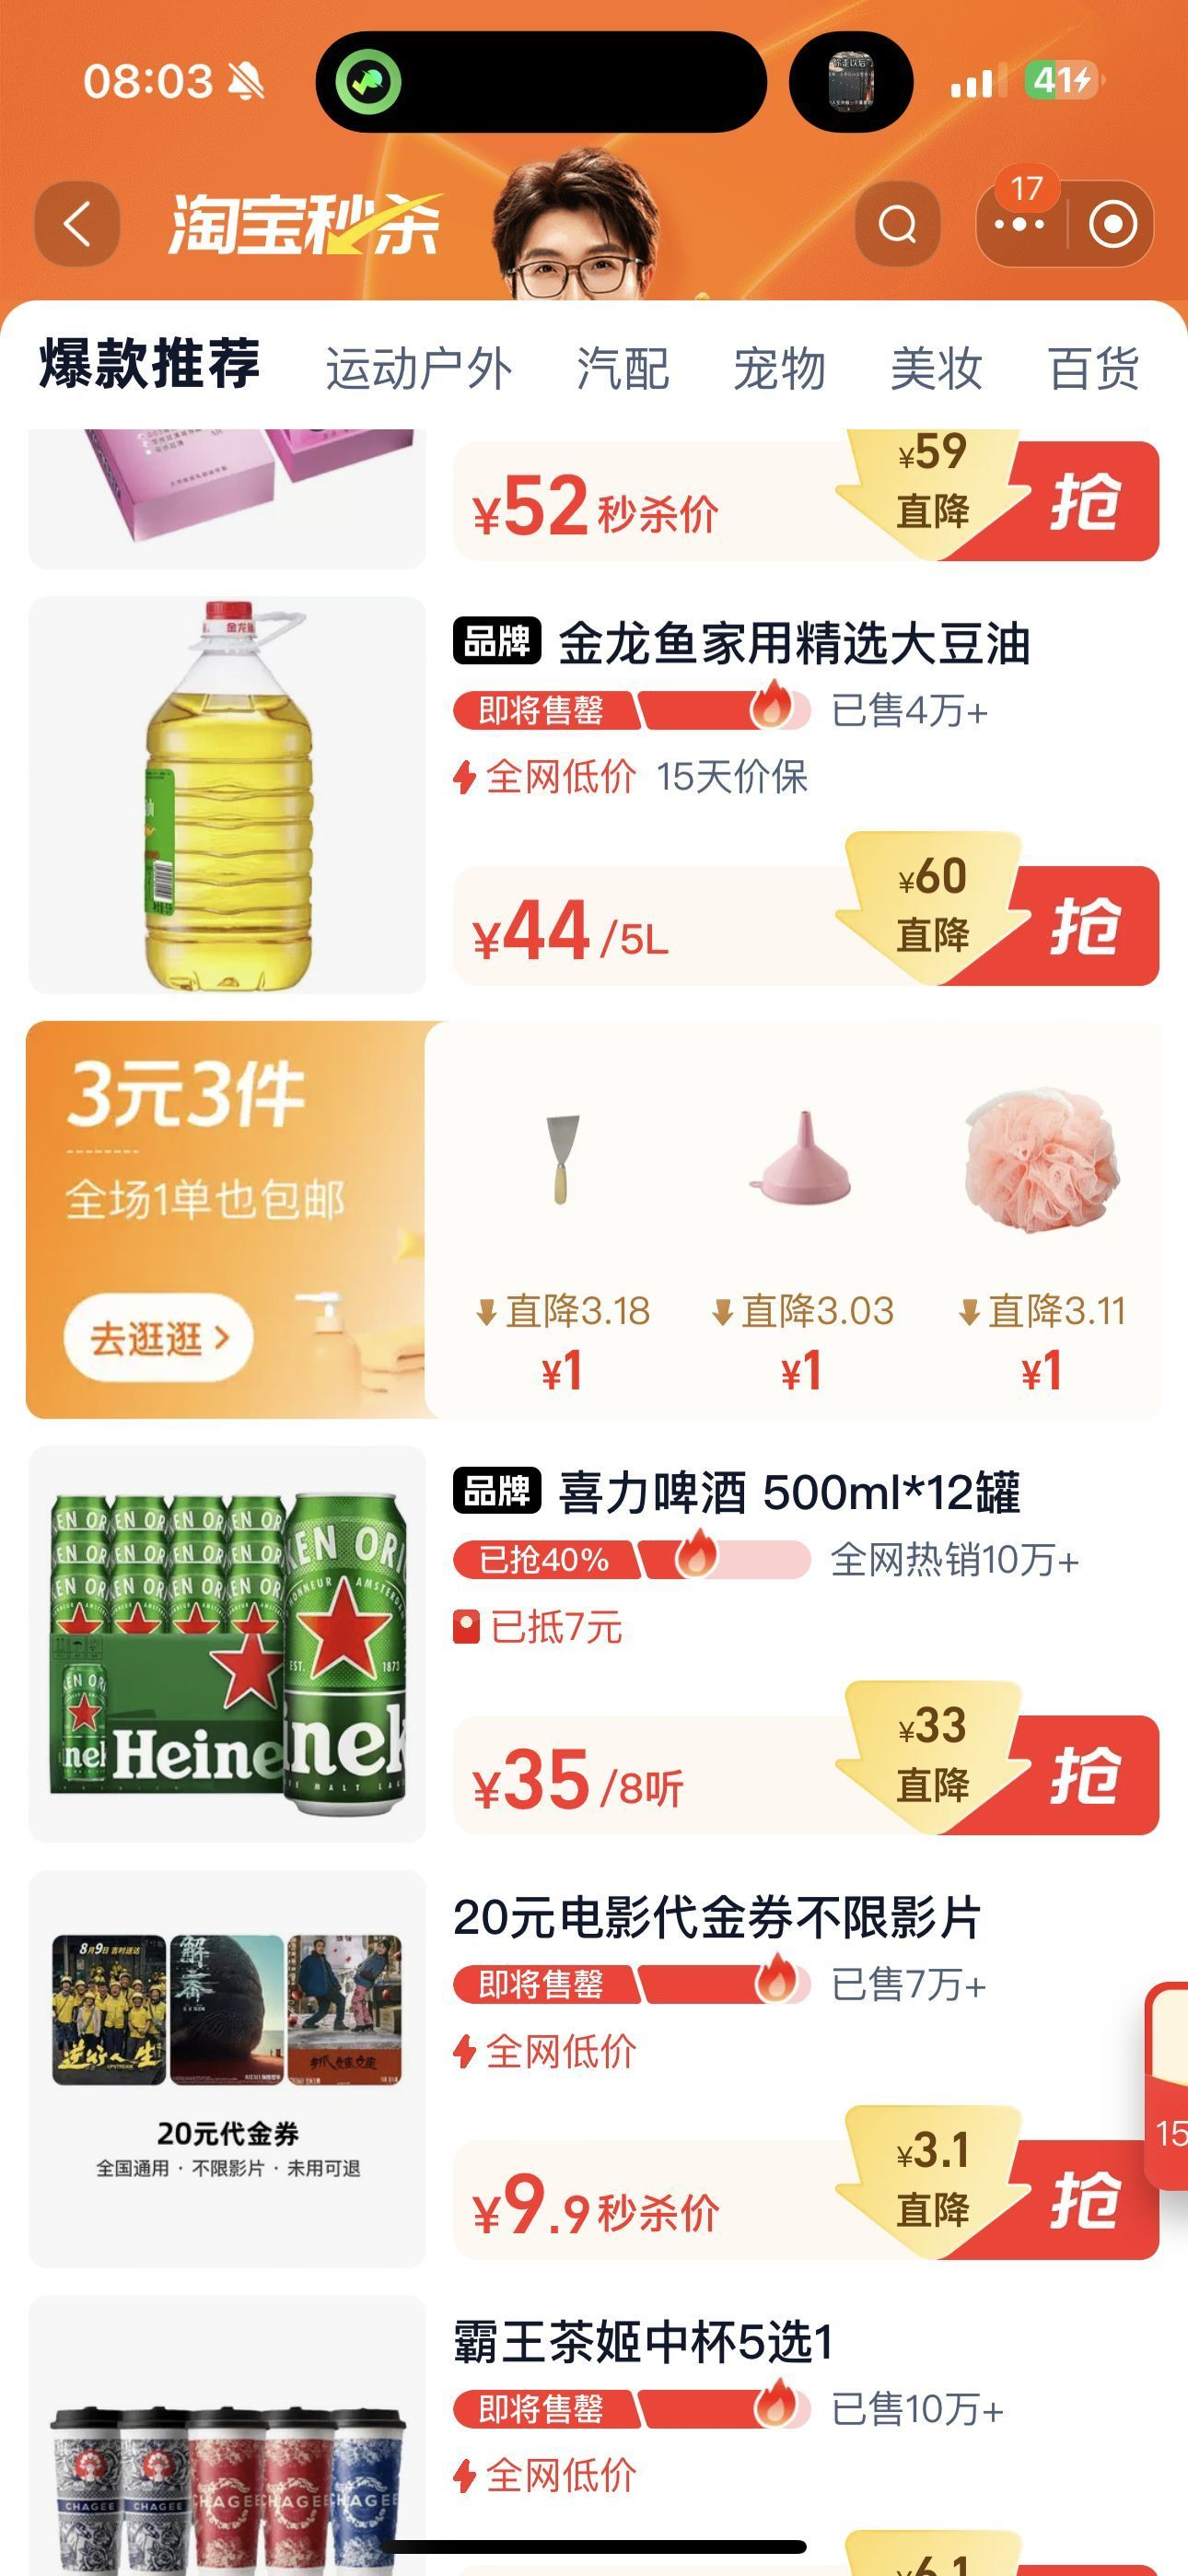banner: (28, 1020, 1172, 1446)
item: (26, 1452, 1176, 1851), (25, 591, 1178, 987), (33, 1868, 1175, 2267)
op_bar: (5, 153, 1185, 289)
